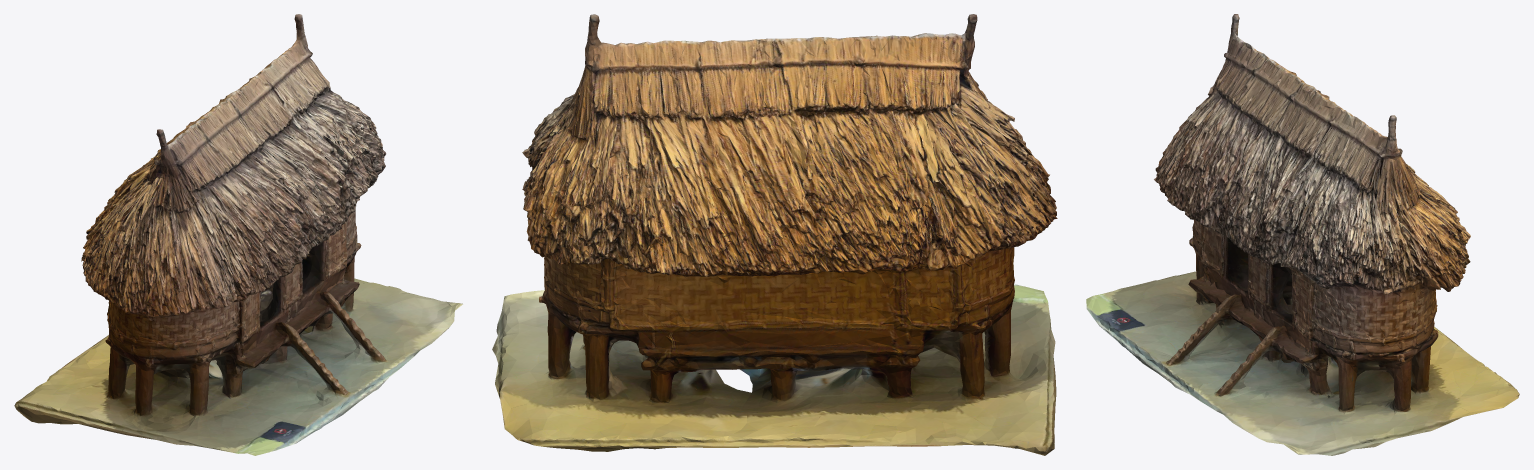
Rendered from Mô hình nhà ở Quảng Nam.glb.
3 renders of one model, left to right at view 1: azimuth 30°, elevation 25°; view 2: azimuth 150°, elevation 25°; view 3: azimuth 270°, elevation 25°, orthographic. The views are drawn at different scales.
Size of the model in its own units: 1.29 by 0.8573 by 1.11.
1 material, 1 textured.
